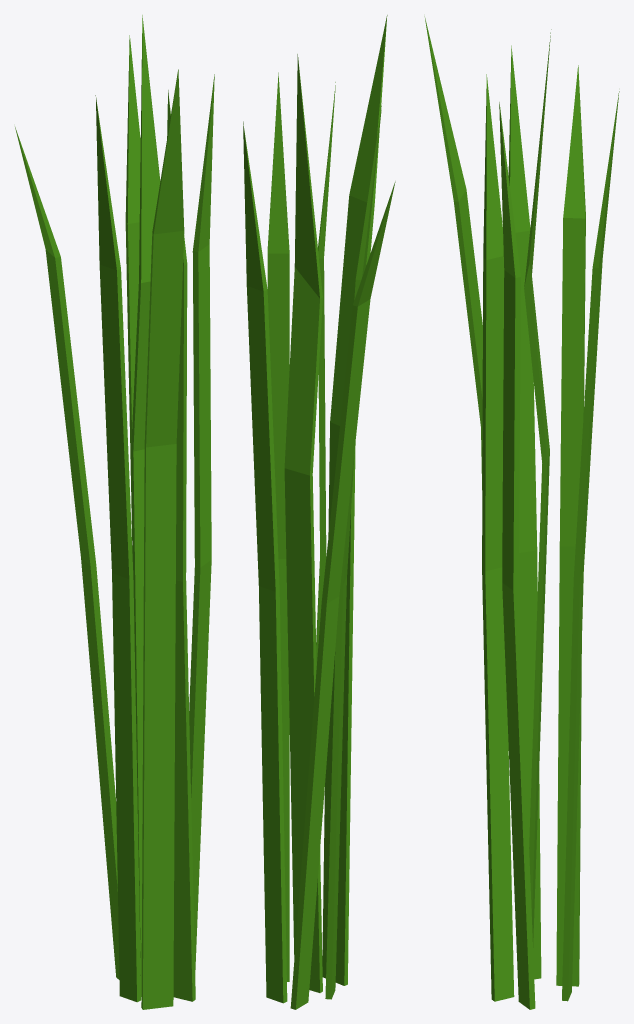
The model's file is Grass_h_01.fbx.
3 renders of one model, left to right at view 1: azimuth 30°, elevation 25°; view 2: azimuth 150°, elevation 25°; view 3: azimuth 270°, elevation 25°, orthographic. The views are drawn at different scales.
Parts seen in each view (by area): view 1: Grass_h_01_LOD0; view 2: Grass_h_01_LOD0; view 3: Grass_h_01_LOD0.
Part boxes in pixels (x1,y1,x2,y2): Grass_h_01_LOD0: (15,15,214,1009); Grass_h_01_LOD0: (243,15,395,1009); Grass_h_01_LOD0: (424,16,619,1009).
Size of what is drawn, in the model's own units: 5.42 by 30.54 by 5.62.
